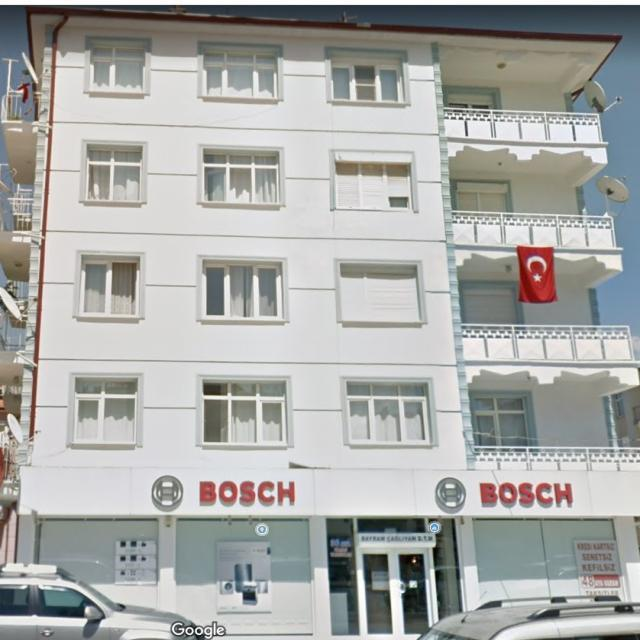Building: (0, 6, 640, 640)
